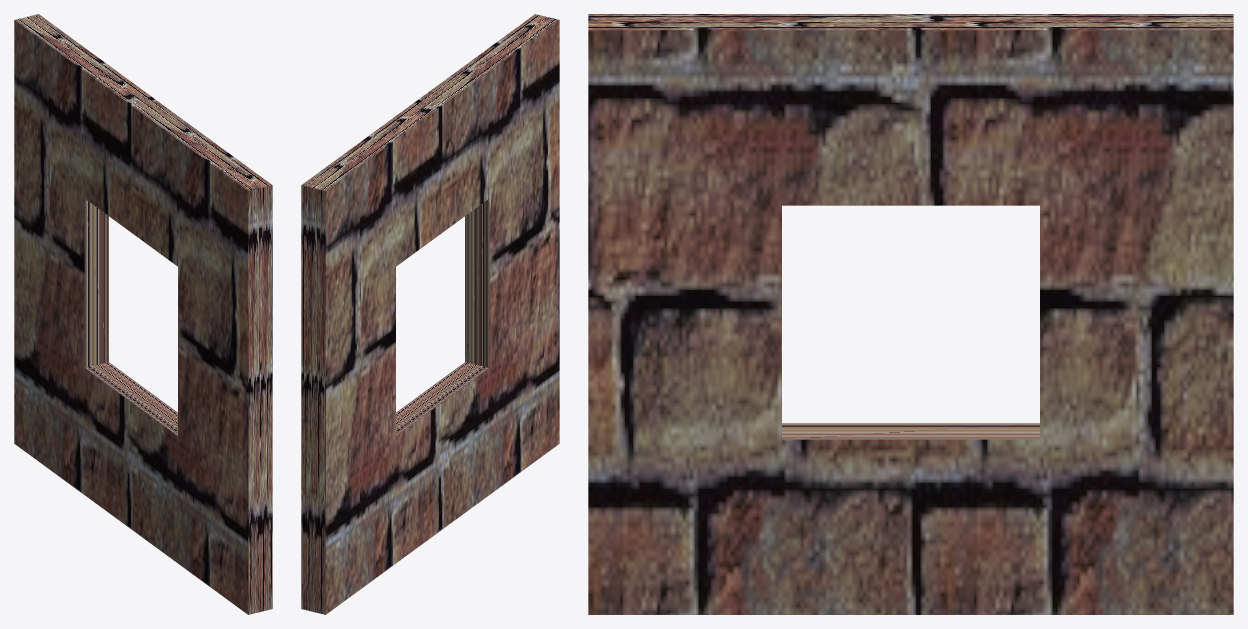
The model's file is WallWindow.glb.
The picture shows the model from 3 angles, left to right: view 1: azimuth 30°, elevation 25°; view 2: azimuth 150°, elevation 25°; view 3: azimuth 270°, elevation 25°; orthographic projection. The views are drawn at different scales.
Parts seen in each view (by area): view 1: Cube; view 2: Cube; view 3: Cube.
Boxes of the visible parts, x1=… form: Cube: x1=14, y1=14, x2=272, y2=614; Cube: x1=301, y1=14, x2=559, y2=614; Cube: x1=588, y1=14, x2=1233, y2=614.
Bounding box in the file's own units: 0.6 × 10 × 10.
1 material, 1 textured.
